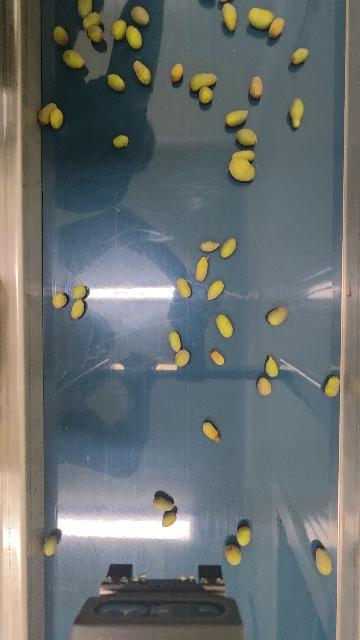Baby Potato: (228, 156, 256, 183), (188, 71, 218, 91), (248, 6, 274, 29), (314, 546, 333, 576), (61, 48, 86, 70), (132, 59, 152, 86), (224, 108, 249, 128), (289, 97, 305, 128), (221, 2, 238, 31), (216, 312, 234, 339), (125, 24, 143, 50), (38, 101, 56, 127), (202, 420, 222, 443), (267, 305, 288, 326), (130, 4, 150, 26), (236, 127, 258, 147), (194, 255, 210, 282), (229, 147, 257, 162), (268, 16, 286, 39), (224, 543, 242, 566), (207, 279, 225, 301), (52, 25, 70, 47), (220, 237, 237, 260), (324, 375, 341, 398), (111, 19, 128, 42), (153, 495, 175, 512), (291, 46, 310, 65), (85, 24, 104, 43), (107, 73, 126, 92), (249, 75, 264, 99), (49, 106, 64, 130), (176, 277, 192, 299), (236, 525, 252, 547), (70, 298, 86, 320), (265, 355, 280, 378), (43, 534, 58, 557), (168, 328, 183, 351), (256, 376, 273, 396), (198, 85, 215, 104), (174, 348, 191, 367), (82, 11, 102, 27), (170, 61, 184, 83), (199, 239, 221, 253), (51, 291, 68, 309), (76, 0, 93, 17), (112, 133, 129, 149), (210, 349, 225, 366), (161, 510, 176, 527), (72, 284, 87, 300)
